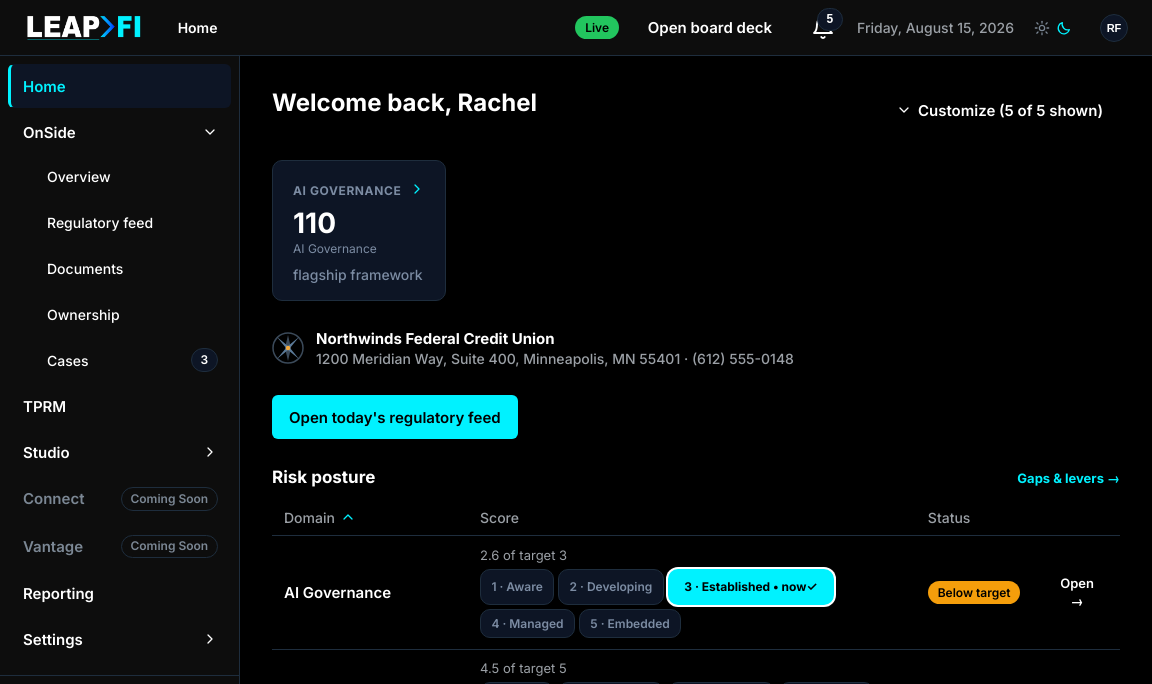
Test: group toggle while a child is active (SH-11; base toggleOnsideNav @3834 / toggleStudioNav @1778: `classList.toggle('open')` with no active-row guard) › a manual expand of a default-COLLAPSED group (Studio) survives a real cross-screen navigation to an unrelated screen (Reporting)
This screenshot has width=1152, height=684.
Click the button "Studio": x=120, y=452 [8,430,231,474]
(page scrolled)
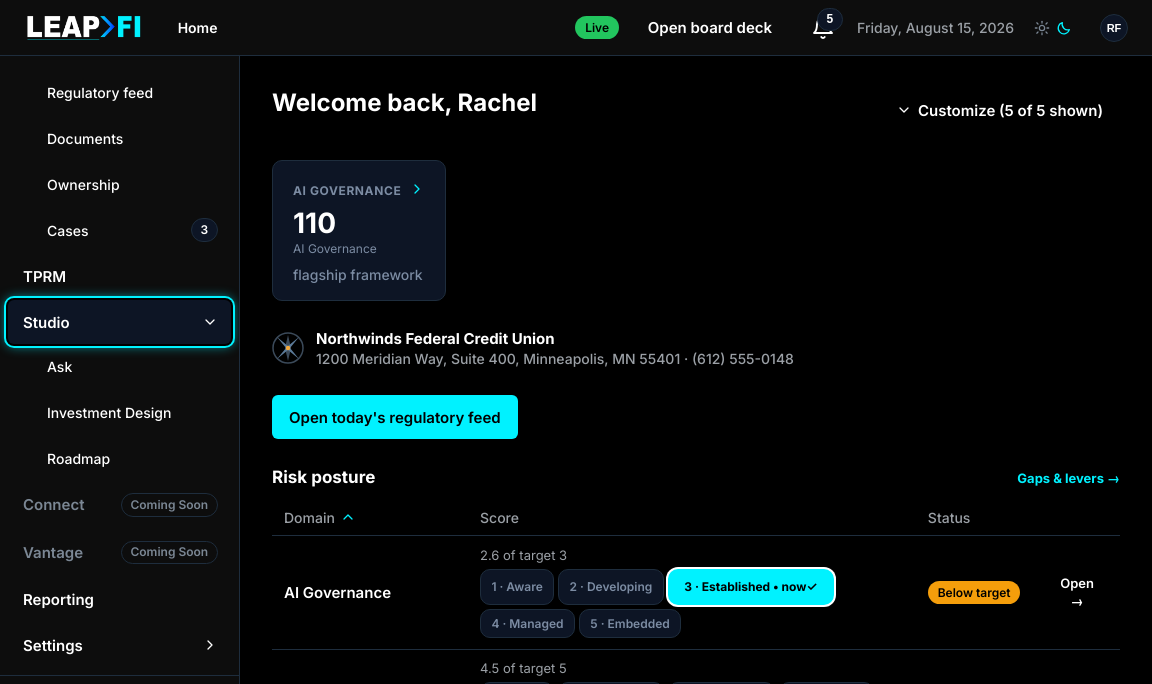
Expected: the button "Studio" is expanded, [8,300,231,344]
Note: Navigate to Reporting — unrelated to Studio.
Click the button "Reporting": x=120, y=599 [8,577,231,621]
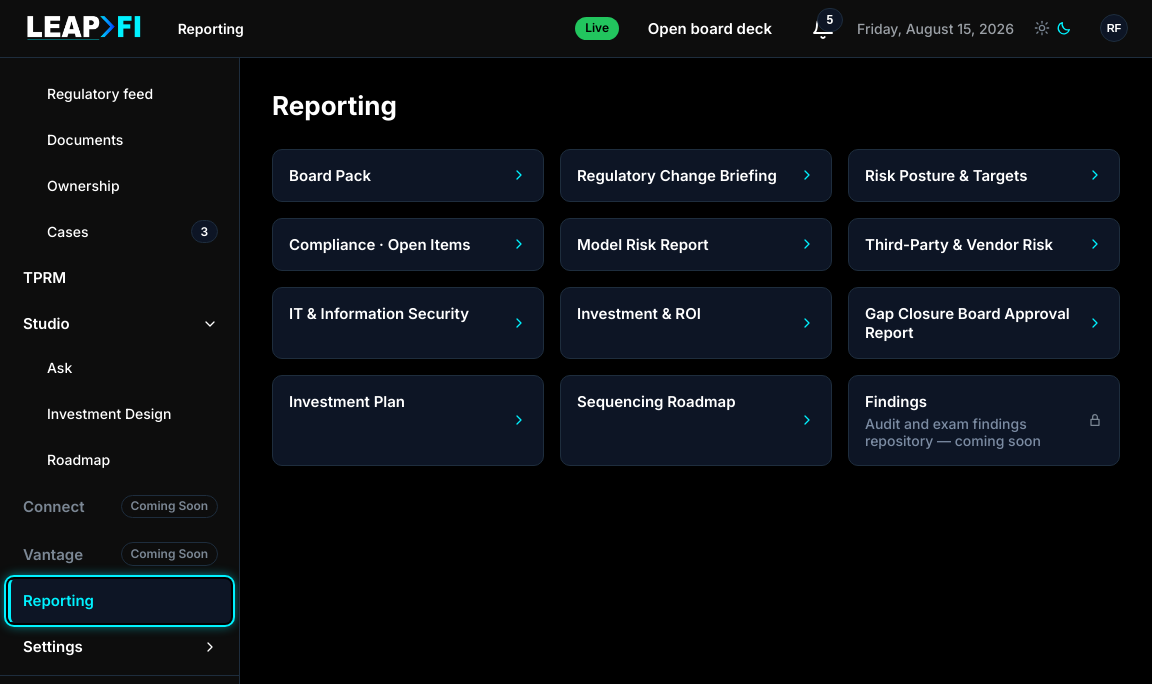
Expected: the button "Studio" is expanded, [8,302,231,346]
Expected: the text "Reporting" in the row of "Live" is shown, [178,20,244,37]
